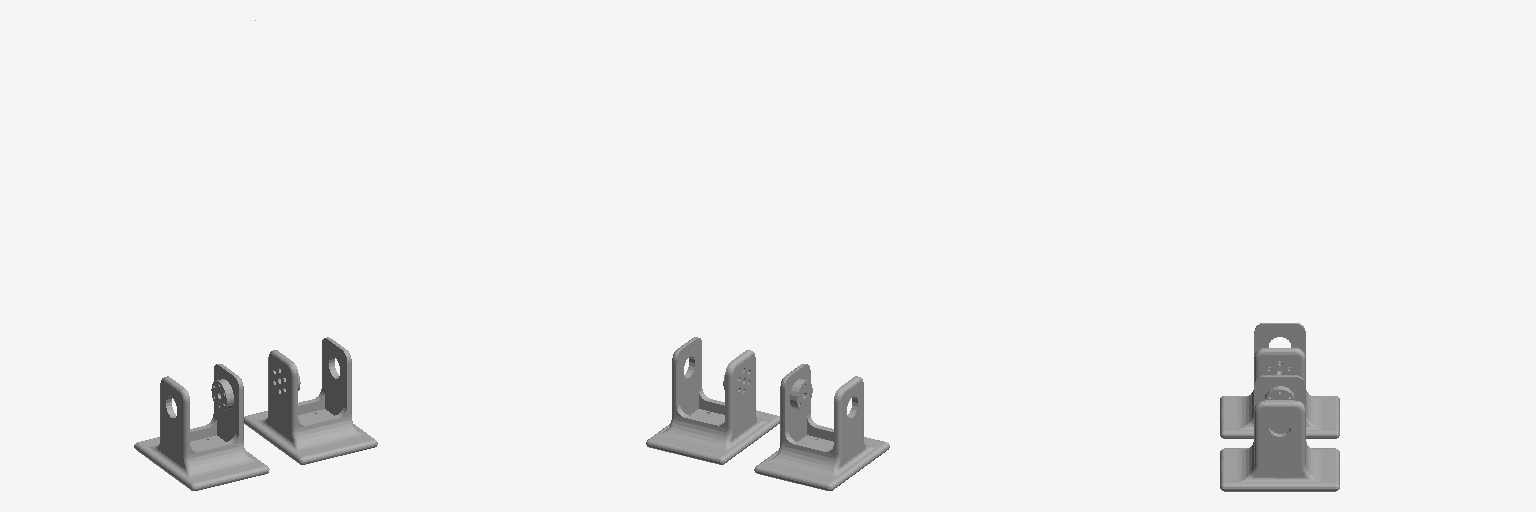
The robot description file, URDF, robot "Full_Assem.SLDASM":
<?xml version="1.0" encoding="utf-8"?>
<!-- This URDF was automatically created by SolidWorks to URDF Exporter! Originally created by [author] ([email redacted]) 
     Commit Version: 1.6.0-4-g7f85cfe  Build Version: 1.6.7995.38578
     For more information, please see http://wiki.ros.org/sw_urdf_exporter -->
<robot
  name="Full_Assem.SLDASM">
  <link
    name="base_link">
    <inertial>
      <origin
        xyz="0.001 0 0.07"
        rpy="0 0 0" />
      <mass
        value="1.894" />
      <inertia
        ixx="0.01"
        ixy="0"
        ixz="0"
        iyy="0.015"
        iyz="0"
        izz="0.006" />
    </inertial>
    <visual>
      <origin
        xyz="0 0 0"
        rpy="0 0 0" />
      <geometry>
        <mesh
          filename="package://Full_Assem.SLDASM/meshes/base_link.STL" />
      </geometry>
      <material
        name="">
        <color
          rgba="0.75294 0.75294 0.75294 1" />
      </material>
    </visual>
    <collision>
      <origin
        xyz="0 0 0"
        rpy="0 0 0" />
      <geometry>
        <mesh
          filename="package://Full_Assem.SLDASM/meshes/base_link.STL" />
      </geometry>
    </collision>
  </link>
  <link
    name="link_1">
    <inertial>
      <origin
        xyz="-0.08 -0.06 -0.074"
        rpy="0 0 0" />
      <mass
        value="0.547" />
      <inertia
        ixx="0.002"
        ixy="0"
        ixz="0"
        iyy="0.002"
        iyz="-0.001"
        izz="0.001" />
    </inertial>
    <visual>
      <origin
        xyz="0 0 0"
        rpy="0 0 0" />
      <geometry>
        <mesh
          filename="package://Full_Assem.SLDASM/meshes/link_1.STL" />
      </geometry>
      <material
        name="">
        <color
          rgba="0.69804 0.69804 0.69804 1" />
      </material>
    </visual>
    <collision>
      <origin
        xyz="0 0 0"
        rpy="0 0 0" />
      <geometry>
        <mesh
          filename="package://Full_Assem.SLDASM/meshes/link_1.STL" />
      </geometry>
    </collision>
  </link>
  <joint
    name="joint_1"
    type="revolute">
    <origin
      xyz="0 0 0"
      rpy="0 0 0" />
    <parent
      link="base_link" />
    <child
      link="link_1" />
    <axis
      xyz="0 0 1" />
    <limit
      lower="-0.5"
      upper="0.5"
      effort="7"
      velocity="12" />
  </joint>
  <link
    name="link_2">
    <inertial>
      <origin
        xyz="-0.073 -0.006 -0.111"
        rpy="0 0 0" />
      <mass
        value="0.378" />
      <inertia
        ixx="0"
        ixy="0"
        ixz="0"
        iyy="0"
        iyz="0"
        izz="0" />
    </inertial>
    <visual>
      <origin
        xyz="0 0 0"
        rpy="0 0 0" />
      <geometry>
        <mesh
          filename="package://Full_Assem.SLDASM/meshes/link_2.STL" />
      </geometry>
      <material
        name="">
        <color
          rgba="0.69804 0.69804 0.69804 1" />
      </material>
    </visual>
    <collision>
      <origin
        xyz="0 0 0"
        rpy="0 0 0" />
      <geometry>
        <mesh
          filename="package://Full_Assem.SLDASM/meshes/link_2.STL" />
      </geometry>
    </collision>
  </link>
  <joint
    name="joint_2"
    type="revolute">
    <origin
      xyz="0 0 0"
      rpy="0 0 0" />
    <parent
      link="link_1" />
    <child
      link="link_2" />
    <axis
      xyz="0 1 0" />
    <limit
      lower="-0.7"
      upper="0.7"
      effort="7"
      velocity="12" />
  </joint>
  <link
    name="link_3">
    <inertial>
      <origin
        xyz="-0.072 -0.001 -0.261"
        rpy="0 0 0" />
      <mass
        value="0.436" />
      <inertia
        ixx="0.001"
        ixy="0"
        ixz="0"
        iyy="0.001"
        iyz="0"
        izz="0" />
    </inertial>
    <visual>
      <origin
        xyz="0 0 0"
        rpy="0 0 0" />
      <geometry>
        <mesh
          filename="package://Full_Assem.SLDASM/meshes/link_3.STL" />
      </geometry>
      <material
        name="">
        <color
          rgba="0.698039215686274 0.698039215686274 0.698039215686274 1" />
      </material>
    </visual>
    <collision>
      <origin
        xyz="0 0 0"
        rpy="0 0 0" />
      <geometry>
        <mesh
          filename="package://Full_Assem.SLDASM/meshes/link_3.STL" />
      </geometry>
    </collision>
  </link>
  <joint
    name="joint_3"
    type="revolute">
    <origin
      xyz="0 0 0"
      rpy="0 0 0" />
    <parent
      link="link_2" />
    <child
      link="link_3" />
    <axis
      xyz="1 0 0" />
    <limit
      lower="-0.25"
      upper="1.57"
      effort="7"
      velocity="12" />
  </joint>
  <link
    name="link_4">
    <inertial>
      <origin
        xyz="-0.072 -0.001 -0.441"
        rpy="0 0 0" />
      <mass
        value="0.436" />
      <inertia
        ixx="0.001"
        ixy="0"
        ixz="0"
        iyy="0.001"
        iyz="0"
        izz="0" />
    </inertial>
    <visual>
      <origin
        xyz="0 0 0"
        rpy="0 0 0" />
      <geometry>
        <mesh
          filename="package://Full_Assem.SLDASM/meshes/link_4.STL" />
      </geometry>
      <material
        name="">
        <color
          rgba="0.698039215686274 0.698039215686274 0.698039215686274 1" />
      </material>
    </visual>
    <collision>
      <origin
        xyz="0 0 0"
        rpy="0 0 0" />
      <geometry>
        <mesh
          filename="package://Full_Assem.SLDASM/meshes/link_4.STL" />
      </geometry>
    </collision>
  </link>
  <joint
    name="joint_4"
    type="revolute">
    <origin
      xyz="0 0 0"
      rpy="0 0 0" />
    <parent
      link="link_3" />
    <child
      link="link_4" />
    <axis
      xyz="1 0 0" />
    <limit
      lower="-1.57"
      upper="1.57"
      effort="7"
      velocity="12" />
  </joint>
  <link
    name="link_5">
    <inertial>
      <origin
        xyz="-0.071 -0.001 -0.524"
        rpy="0 0 0" />
      <mass
        value="0.105" />
      <inertia
        ixx="0"
        ixy="0"
        ixz="0"
        iyy="0"
        iyz="0"
        izz="0" />
    </inertial>
    <visual>
      <origin
        xyz="0 0 0"
        rpy="0 0 0" />
      <geometry>
        <mesh
          filename="package://Full_Assem.SLDASM/meshes/link_5.STL" />
      </geometry>
      <material
        name="">
        <color
          rgba="0.698039215686274 0.698039215686274 0.698039215686274 1" />
      </material>
    </visual>
    <collision>
      <origin
        xyz="0 0 0"
        rpy="0 0 0" />
      <geometry>
        <mesh
          filename="package://Full_Assem.SLDASM/meshes/link_5.STL" />
      </geometry>
    </collision>
  </link>
  <joint
    name="joint_5"
    type="revolute">
    <origin
      xyz="0 0 0"
      rpy="0 0 0" />
    <parent
      link="link_4" />
    <child
      link="link_5" />
    <axis
      xyz="1 0 0" />
    <limit
      lower="-1.57"
      upper="1.57"
      effort="7"
      velocity="12" />
  </joint>
  <link
    name="link_6">
    <inertial>
      <origin
        xyz="0.08 -0.06 -0.074"
        rpy="0 0 0" />
      <mass
        value="0.547" />
      <inertia
        ixx="0.002"
        ixy="0"
        ixz="0"
        iyy="0.002"
        iyz="-0.001"
        izz="0.001" />
    </inertial>
    <visual>
      <origin
        xyz="0 0 0"
        rpy="0 0 0" />
      <geometry>
        <mesh
          filename="package://Full_Assem.SLDASM/meshes/link_6.STL" />
      </geometry>
      <material
        name="">
        <color
          rgba="0.698039215686274 0.698039215686274 0.698039215686274 1" />
      </material>
    </visual>
    <collision>
      <origin
        xyz="0 0 0"
        rpy="0 0 0" />
      <geometry>
        <mesh
          filename="package://Full_Assem.SLDASM/meshes/link_6.STL" />
      </geometry>
    </collision>
  </link>
  <joint
    name="joint_6"
    type="revolute">
    <origin
      xyz="0 0 0"
      rpy="0 0 0" />
    <parent
      link="base_link" />
    <child
      link="link_6" />
    <axis
      xyz="0 0 1" />
    <limit
      lower="-0.5"
      upper="0.5"
      effort="7"
      velocity="12" />
  </joint>
  <link
    name="link_7">
    <inertial>
      <origin
        xyz="0.073 -0.006 -0.111"
        rpy="0 0 0" />
      <mass
        value="0.378" />
      <inertia
        ixx="0"
        ixy="0"
        ixz="0"
        iyy="0"
        iyz="0"
        izz="0" />
    </inertial>
    <visual>
      <origin
        xyz="0 0 0"
        rpy="0 0 0" />
      <geometry>
        <mesh
          filename="package://Full_Assem.SLDASM/meshes/link_7.STL" />
      </geometry>
      <material
        name="">
        <color
          rgba="1 1 1 1" />
      </material>
    </visual>
    <collision>
      <origin
        xyz="0 0 0"
        rpy="0 0 0" />
      <geometry>
        <mesh
          filename="package://Full_Assem.SLDASM/meshes/link_7.STL" />
      </geometry>
    </collision>
  </link>
  <joint
    name="joint_7"
    type="revolute">
    <origin
      xyz="0 0 0"
      rpy="0 0 0" />
    <parent
      link="link_6" />
    <child
      link="link_7" />
    <axis
      xyz="0 1 0" />
    <limit
      lower="-0.7"
      upper="0.7"
      effort="7"
      velocity="12" />
  </joint>
  <link
    name="link_8">
    <inertial>
      <origin
        xyz="0.072 -0.001 -0.261"
        rpy="0 0 0" />
      <mass
        value="0.436" />
      <inertia
        ixx="0.001"
        ixy="0"
        ixz="0"
        iyy="0.001"
        iyz="0"
        izz="0" />
    </inertial>
    <visual>
      <origin
        xyz="0 0 0"
        rpy="0 0 0" />
      <geometry>
        <mesh
          filename="package://Full_Assem.SLDASM/meshes/link_8.STL" />
      </geometry>
      <material
        name="">
        <color
          rgba="0.698039215686274 0.698039215686274 0.698039215686274 1" />
      </material>
    </visual>
    <collision>
      <origin
        xyz="0 0 0"
        rpy="0 0 0" />
      <geometry>
        <mesh
          filename="package://Full_Assem.SLDASM/meshes/link_8.STL" />
      </geometry>
    </collision>
  </link>
  <joint
    name="joint_8"
    type="revolute">
    <origin
      xyz="0 0 0"
      rpy="0 0 0" />
    <parent
      link="link_7" />
    <child
      link="link_8" />
    <axis
      xyz="1 0 0" />
    <limit
      lower="-0.25"
      upper="1.57"
      effort="7"
      velocity="12" />
  </joint>
  <link
    name="link_9">
    <inertial>
      <origin
        xyz="0.072 -0.001 -0.441"
        rpy="0 0 0" />
      <mass
        value="0.436" />
      <inertia
        ixx="0.001"
        ixy="0"
        ixz="0"
        iyy="0.001"
        iyz="0"
        izz="0" />
    </inertial>
    <visual>
      <origin
        xyz="0 0 0"
        rpy="0 0 0" />
      <geometry>
        <mesh
          filename="package://Full_Assem.SLDASM/meshes/link_9.STL" />
      </geometry>
      <material
        name="">
        <color
          rgba="0.698039215686274 0.698039215686274 0.698039215686274 1" />
      </material>
    </visual>
    <collision>
      <origin
        xyz="0 0 0"
        rpy="0 0 0" />
      <geometry>
        <mesh
          filename="package://Full_Assem.SLDASM/meshes/link_9.STL" />
      </geometry>
    </collision>
  </link>
  <joint
    name="joint_9"
    type="revolute">
    <origin
      xyz="0 0 0"
      rpy="0 0 0" />
    <parent
      link="link_8" />
    <child
      link="link_9" />
    <axis
      xyz="1 0 0" />
    <limit
      lower="-1.57"
      upper="1.57"
      effort="7"
      velocity="12" />
  </joint>
  <link
    name="link_10">
    <inertial>
      <origin
        xyz="0.071 -0.001 -0.524"
        rpy="0 0 0" />
      <mass
        value="0.105" />
      <inertia
        ixx="0"
        ixy="0"
        ixz="0"
        iyy="0"
        iyz="0"
        izz="0" />
    </inertial>
    <visual>
      <origin
        xyz="0 0 0"
        rpy="0 0 0" />
      <geometry>
        <mesh
          filename="package://Full_Assem.SLDASM/meshes/link_10.STL" />
      </geometry>
      <material
        name="">
        <color
          rgba="0.698039215686274 0.698039215686274 0.698039215686274 1" />
      </material>
    </visual>
    <collision>
      <origin
        xyz="0 0 0"
        rpy="0 0 0" />
      <geometry>
        <mesh
          filename="package://Full_Assem.SLDASM/meshes/link_10.STL" />
      </geometry>
    </collision>
  </link>
  <joint
    name="joint_10"
    type="revolute">
    <origin
      xyz="0 0 0"
      rpy="0 0 0" />
    <parent
      link="link_9" />
    <child
      link="link_10" />
    <axis
      xyz="1 0 0" />
    <limit
      lower="-1.57"
      upper="1.57"
      effort="7"
      velocity="12" />
  </joint>
</robot>

--- What the picture shows (computed from the rendered views, not written in the file) ---
3 views of the same robot in one strip: view 1: azimuth 30°, elevation 25°; view 2: azimuth 150°, elevation 25°; view 3: azimuth 270°, elevation 25° (orthographic).
Model Full_Assem.SLDASM with 11 links and 10 joints (10 revolute), rooted at base_link, posed all joints at 0.
Links seen in each view (by area): view 1: link_5, link_10; view 2: link_5, link_10; view 3: link_10, link_5.
Boxes of the visible links, bbox=[...] form: link_5: bbox=[134, 364, 269, 490]; link_10: bbox=[244, 337, 377, 464]; link_5: bbox=[754, 364, 889, 490]; link_10: bbox=[646, 337, 779, 464]; link_10: bbox=[1220, 375, 1339, 491]; link_5: bbox=[1220, 323, 1339, 438].
Bounding box of the posed robot: 0.2516 × 0.14 × 0.5512 m (x, y, z).
11 mesh visuals loaded from 11 distinct referenced files (11 binary STL).
